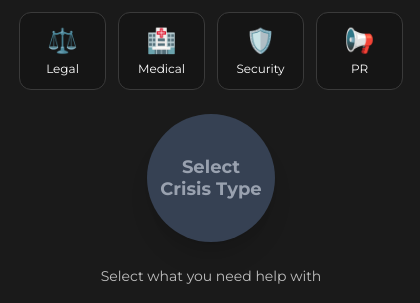
Test case: CrisisSelector › enables button after selecting a category
The width and height of the screenshot is (420, 303).
Click the text "Legal". click: [62, 69]
box: [46,61,79,77]
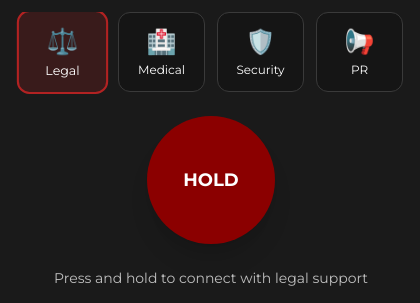
Check: the button "HOLD" is enabled, box [147,116,275,244]
